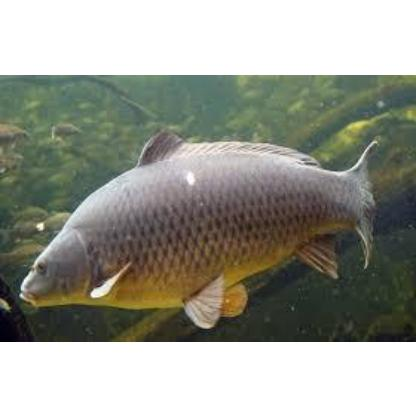ikan-mas: (19, 133, 380, 315)
